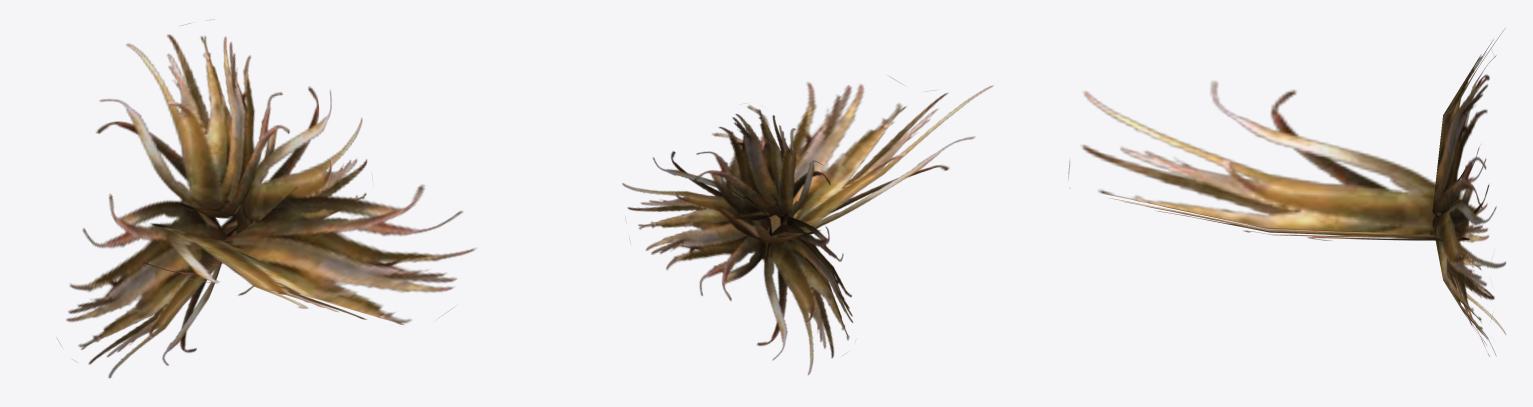
3 renders of one model, left to right at view 1: azimuth 30°, elevation 25°; view 2: azimuth 150°, elevation 25°; view 3: azimuth 270°, elevation 25°, orthographic. The views are drawn at different scales.
Parts seen in each view (by area): view 1: model_Object132; view 2: model_Object132; view 3: model_Object132.
Part boxes in pixels (<box>): model_Object132: <box>57,19,476,378</box>; model_Object132: <box>622,76,993,374</box>; model_Object132: <box>1068,28,1505,356</box>.
Bounding box in the file's own units: 1.62 × 1.66 × 1.92.
Materials: 1 (1 with a texture image).
